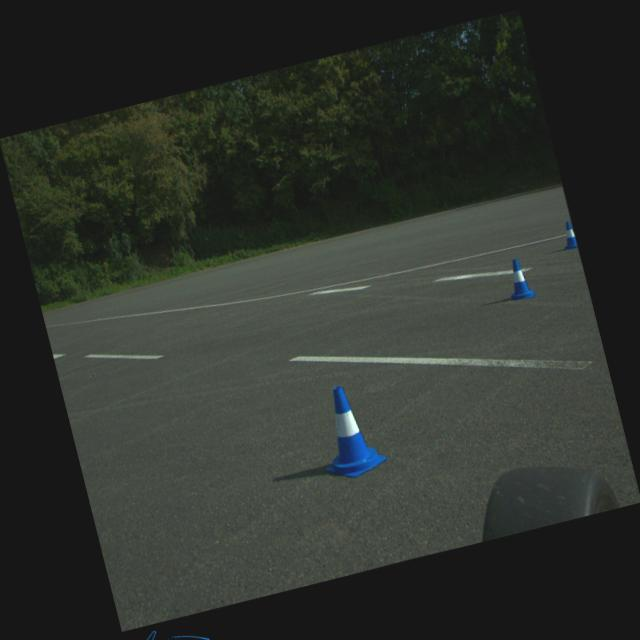blue_cone: (307, 379, 388, 483), (502, 255, 536, 302), (557, 220, 578, 250)
